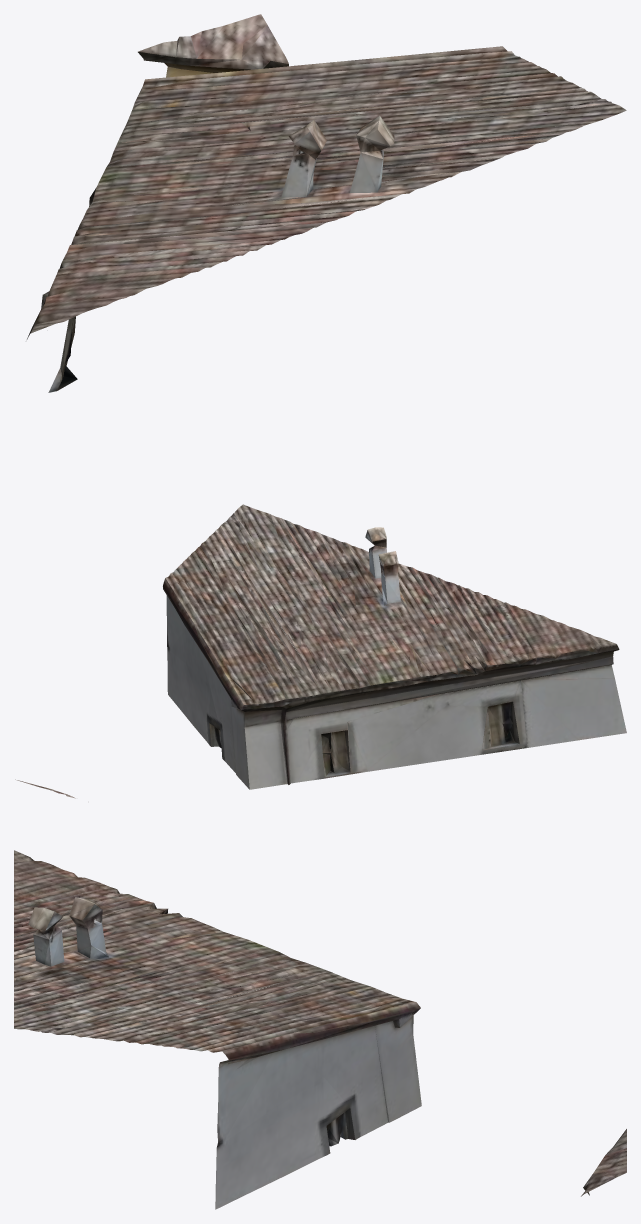
3 views of the same model, one above another, from view 1: azimuth 30°, elevation 25°; view 2: azimuth 150°, elevation 25°; view 3: azimuth 270°, elevation 25° (orthographic). The views are drawn at different scales.
Size of the model in its own units: 12.96 by 5.02 by 13.4.
2 materials, 2 textured.
